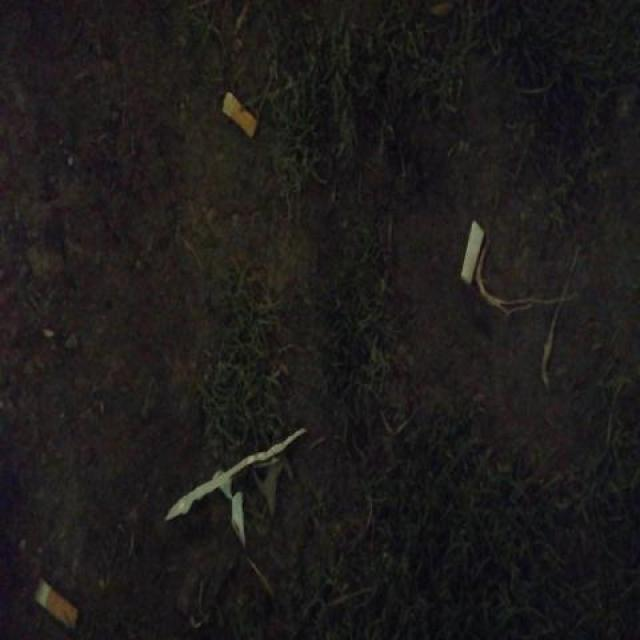non-organic waste: (29, 574, 80, 635), (217, 84, 260, 145), (456, 214, 488, 289)
